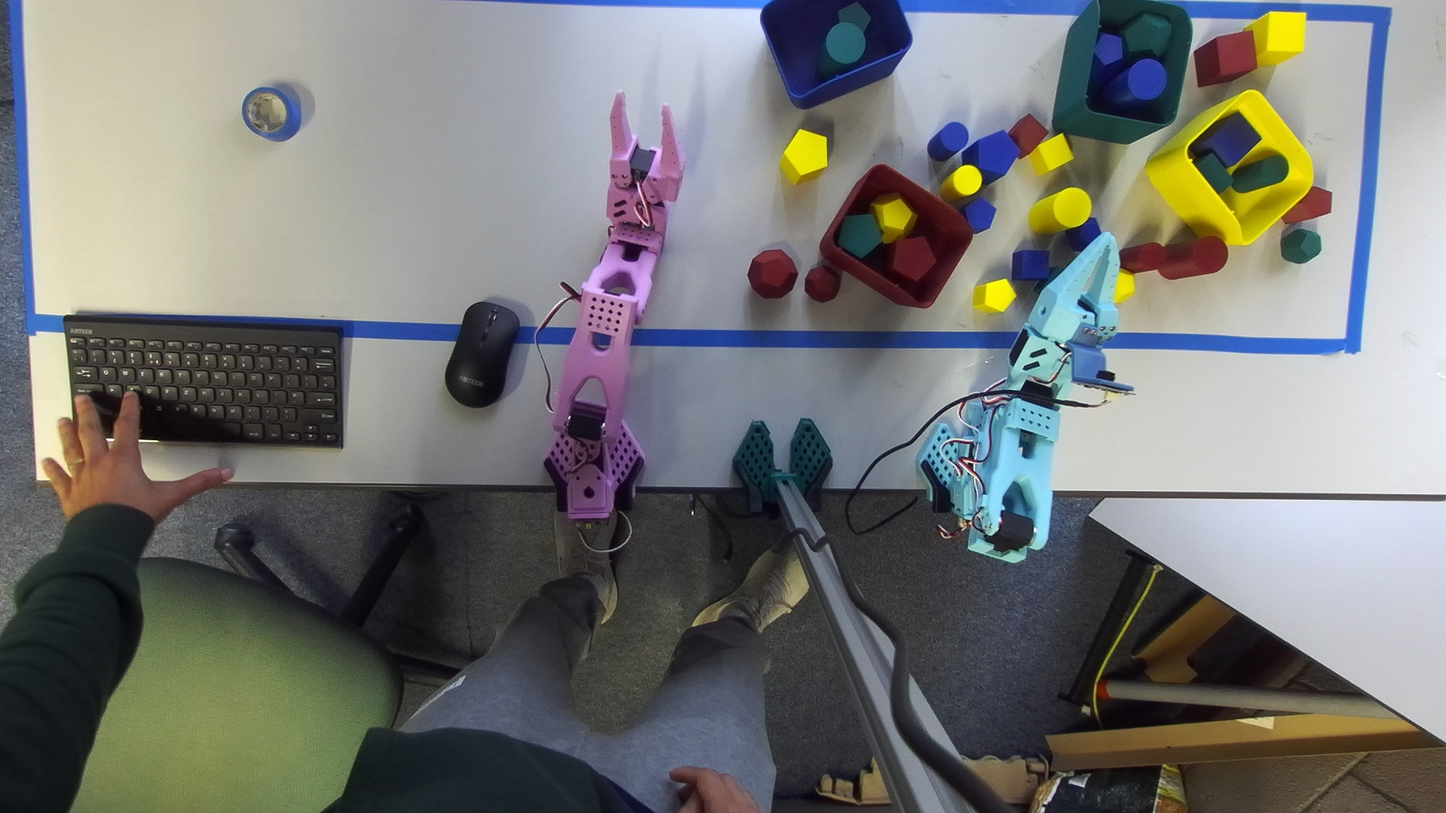bin: (1145, 90, 1313, 245), (819, 164, 972, 308), (1052, 0, 1191, 143), (760, 0, 911, 108)
cube: (1189, 111, 1260, 167), (1194, 29, 1257, 86), (1243, 11, 1305, 65), (1027, 134, 1072, 175), (1008, 114, 1048, 156), (1196, 154, 1232, 193), (1011, 250, 1049, 280)
cylinder: (1102, 58, 1166, 106), (1028, 187, 1091, 233), (1159, 237, 1228, 279), (818, 21, 866, 78), (1230, 154, 1287, 193), (927, 121, 969, 161), (940, 165, 982, 204), (1120, 242, 1166, 273)
dodecahedron: (747, 248, 798, 298), (871, 193, 917, 243), (1124, 14, 1170, 56), (1091, 32, 1123, 83), (1280, 227, 1321, 263), (804, 263, 840, 303), (1066, 216, 1100, 252), (1114, 269, 1134, 304)
gripper: (606, 92, 684, 233), (1024, 233, 1119, 342)
hexagonal: (962, 129, 1017, 183), (779, 129, 827, 184), (886, 236, 935, 280), (836, 214, 881, 259), (1281, 185, 1332, 224), (972, 279, 1016, 312), (961, 198, 996, 233)
